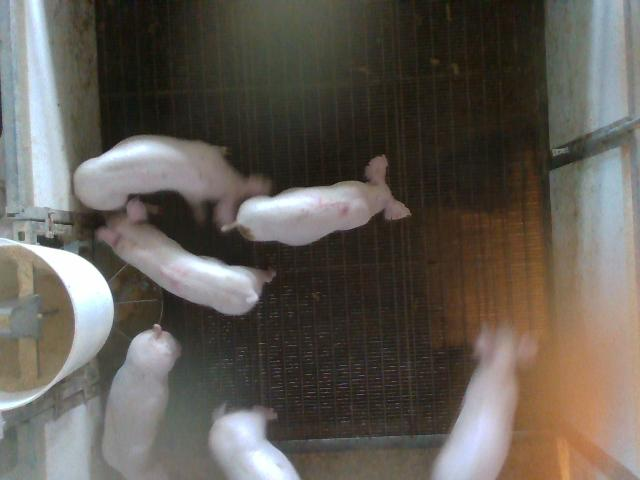pig-4: (96, 198, 275, 314)
pig-5: (222, 155, 411, 246)
